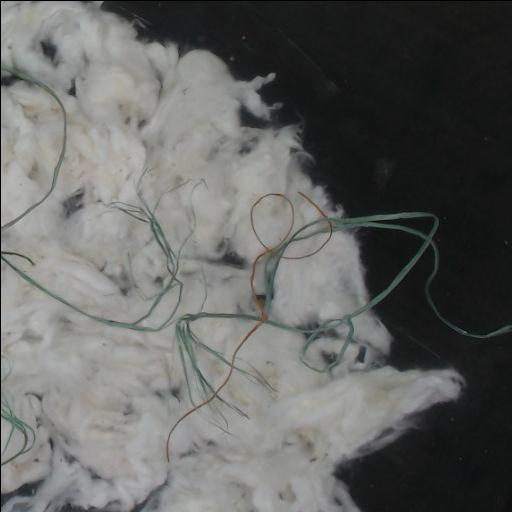conveyor belt: (107, 1, 512, 331), (339, 253, 512, 512), (359, 230, 419, 294)
cotton: (1, 1, 462, 512), (273, 233, 368, 324), (356, 312, 390, 352)
thread: (1, 193, 512, 459), (1, 67, 66, 232), (1, 390, 35, 466)
